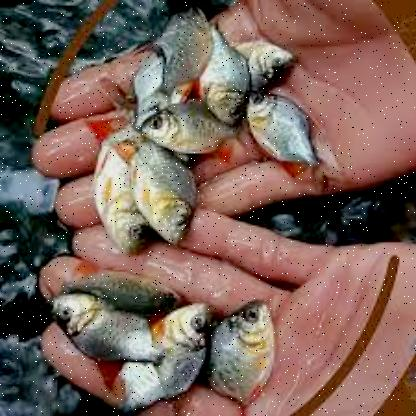ikan-pacu: (122, 300, 216, 398), (209, 299, 282, 395), (249, 91, 330, 177), (131, 139, 193, 245), (141, 103, 240, 151)
